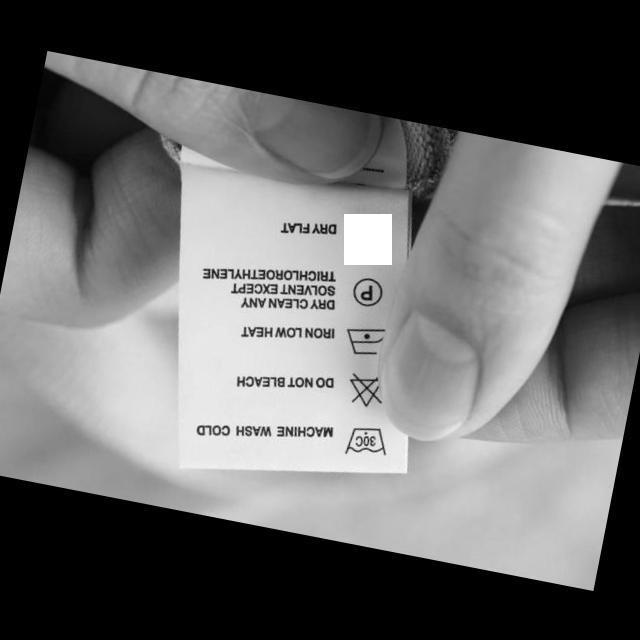30C: (340, 420, 393, 462)
DN_bleach: (340, 366, 392, 416)
iron_low: (338, 318, 390, 362)
normal_dry_clean_solvents: (346, 272, 389, 311)
